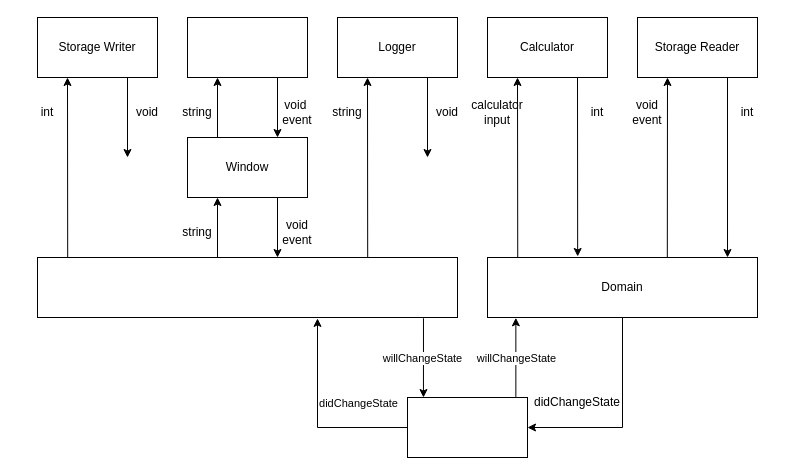
Image size: 794x475. Some labels were removed from this diagram. The shapes that lost their labels are listed below. From the top down, each one's box as (x1, y1, x2, y2) in pixels, then its label:
(186, 16, 308, 78): MyApp
(36, 256, 458, 318): Display
(406, 396, 528, 458): void main()
